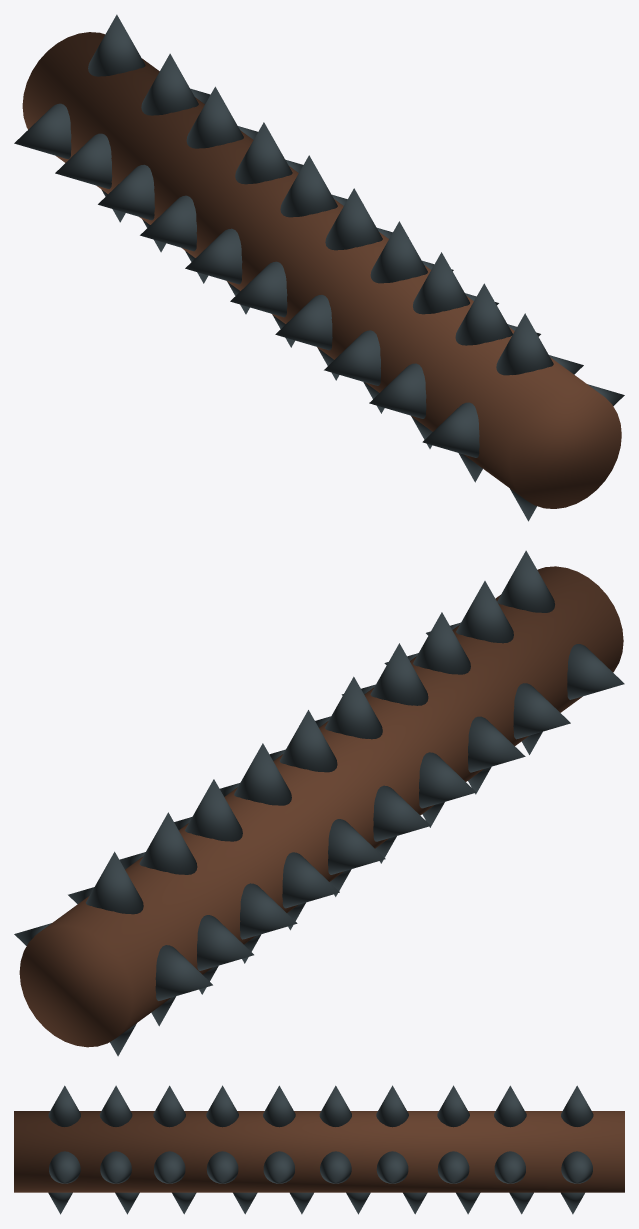
The model's file is Tronco 1.fbx.
3 views of the same model, one above another, from view 1: azimuth 30°, elevation 25°; view 2: azimuth 150°, elevation 25°; view 3: azimuth 270°, elevation 25° (orthographic). The views are drawn at different scales.
Visible parts, largest first — view 1: Tronco; view 2: Tronco; view 3: Tronco.
Boxes of the visible parts, box(x1,y1,x2,y2) form: Tronco: box(14, 14, 624, 521); Tronco: box(14, 550, 624, 1056); Tronco: box(14, 1085, 624, 1214).
Size of the model in its own units: 178 by 175 by 750.
1 material, 1 textured.
